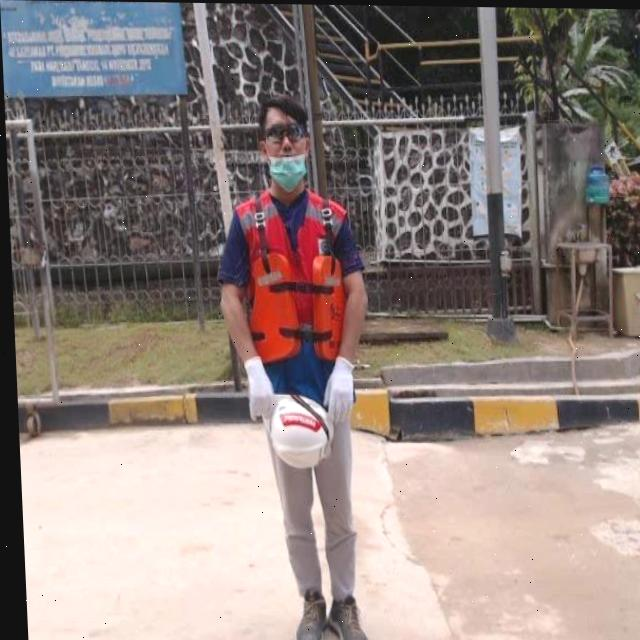Gloves: (316, 354, 353, 424), (240, 354, 272, 420)
Safety-Boot: (321, 593, 363, 640), (287, 587, 321, 640)
Safety-Vest: (228, 185, 357, 366)
